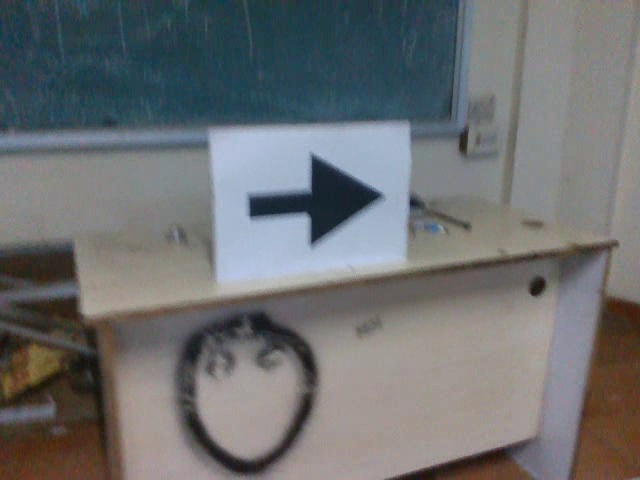Right: (238, 142, 391, 251)
